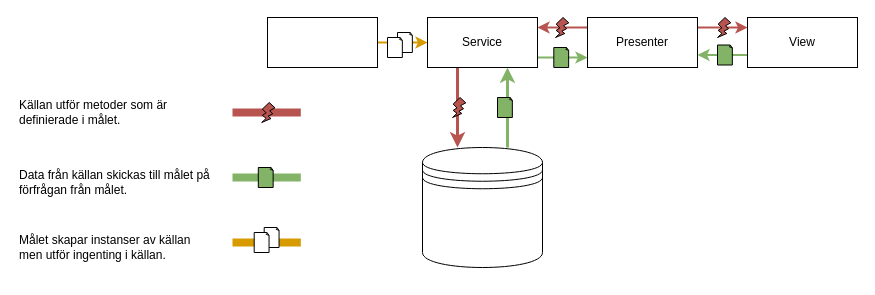
This 875x295 diagram has some shape labels left out. The shapes that lost their labels are listed below. From the top down, each one's centre as x and y in pixels, then its label:
the point at 322,42: Model
the point at 482,207: PseudoDb
